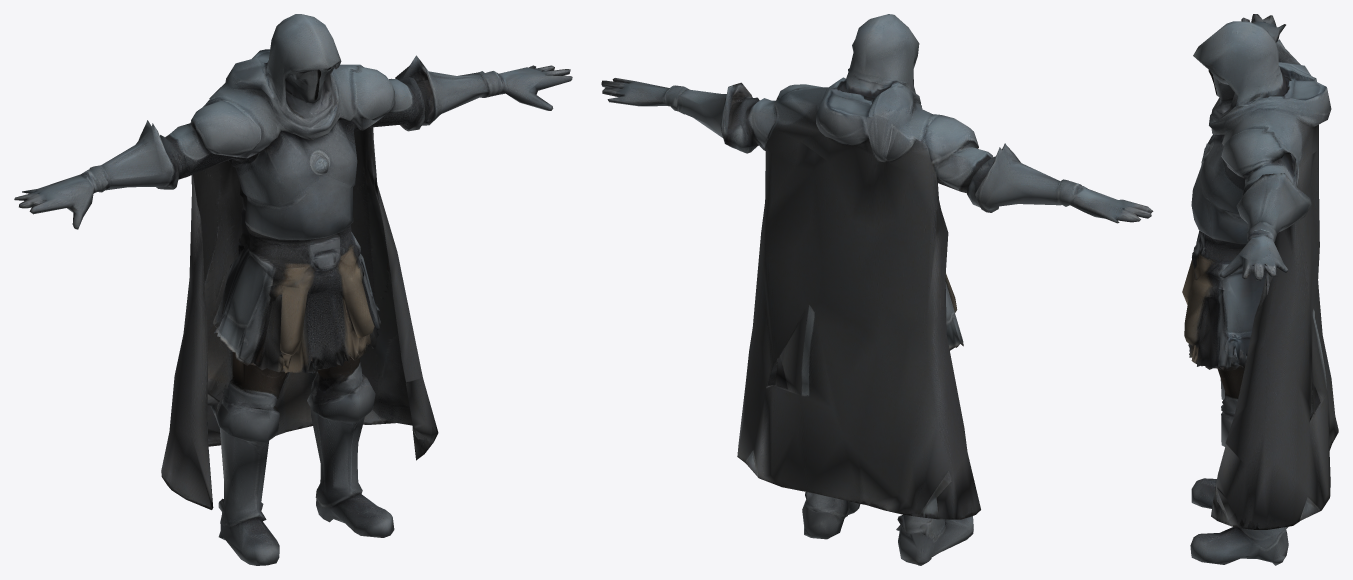
Rendered from knight_ash.glb.
The picture shows the model from 3 angles, left to right: view 1: azimuth 30°, elevation 25°; view 2: azimuth 150°, elevation 25°; view 3: azimuth 270°, elevation 25°; orthographic projection.
Bounding box in the file's own units: 2 × 1.81 × 0.5001.
Materials: 1 (1 with a texture image).
